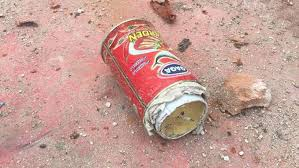metal: (100, 19, 206, 139)
